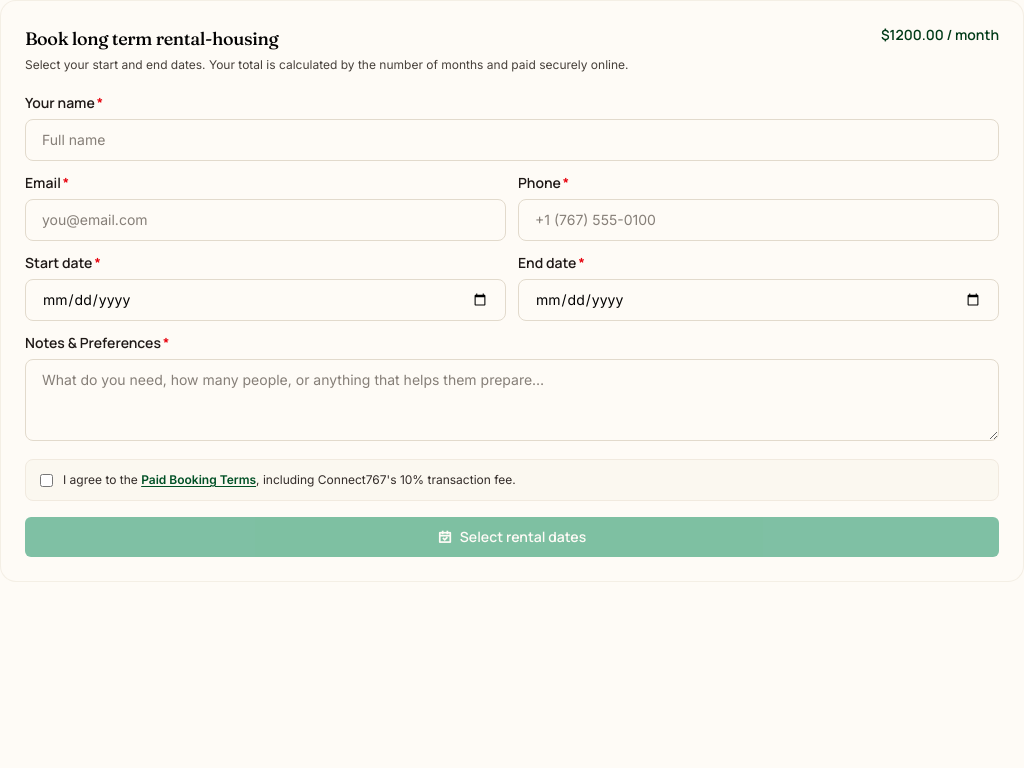
Test: BookingForm › uses a monthly rate for long-term housing
expect the text "$1200.00 / month" is shown: met, box [881, 25, 999, 45]
Type "2030-01-01" into the date field labelled "Start date*".
click(266, 300); type("2030-01-01")  # box [25, 279, 506, 321]
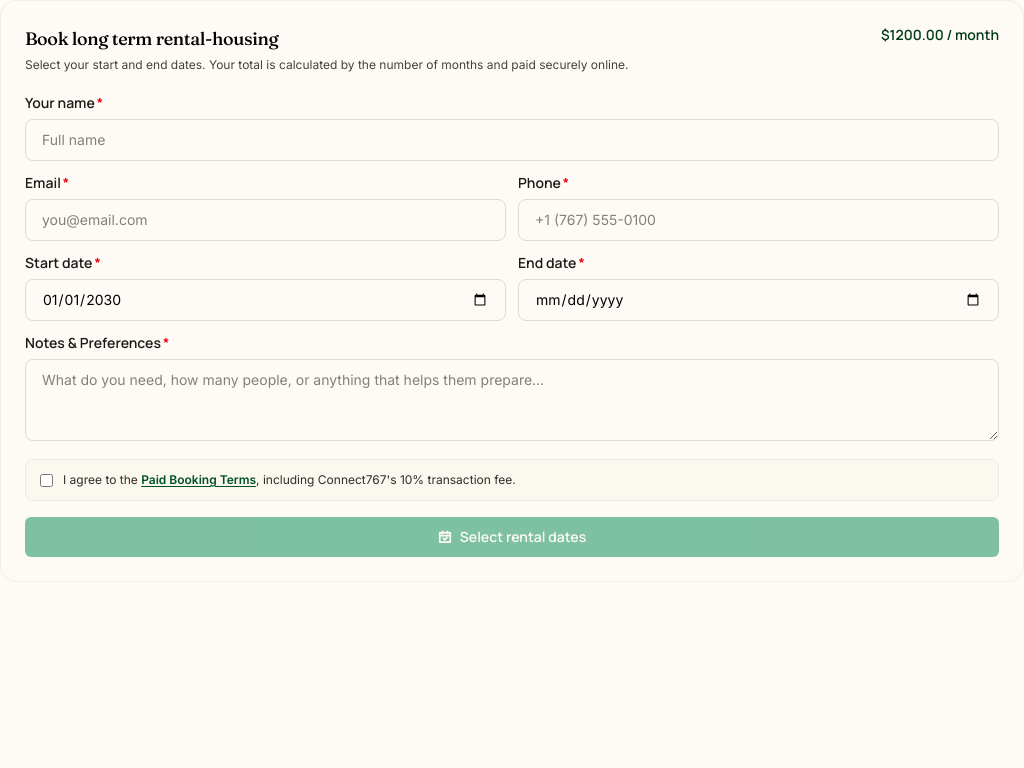
Type "2030-03-02" into the date field labelled "End date*".
click(758, 300); type("2030-03-02")  # box [518, 279, 999, 321]
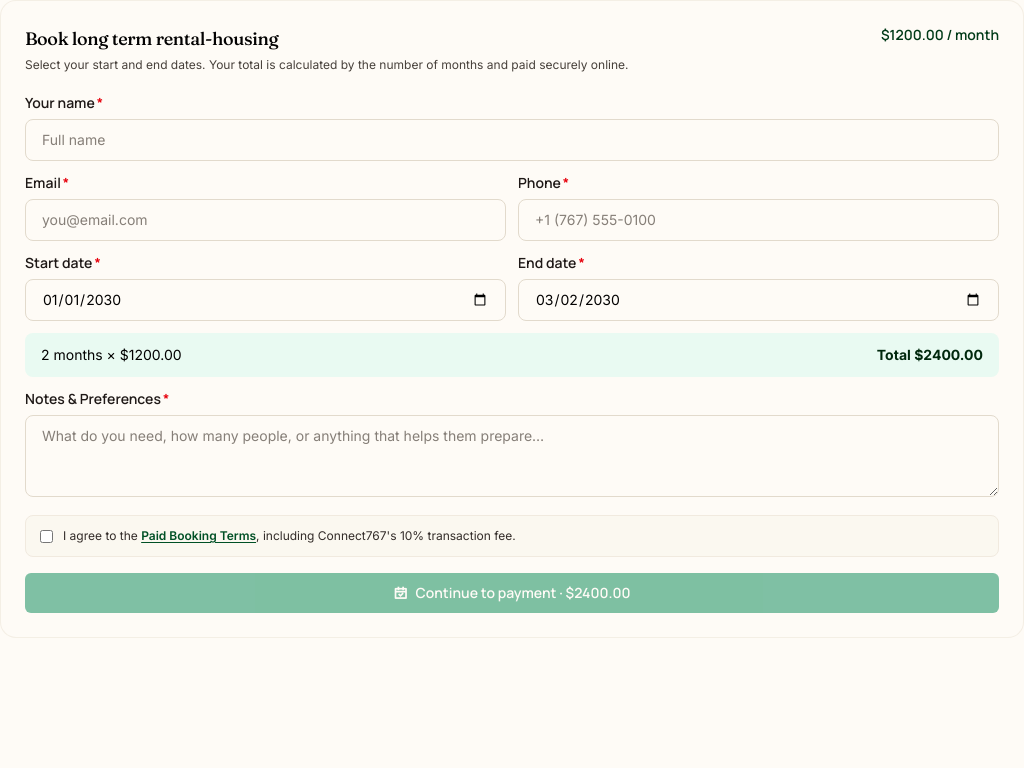
expect the text "2 months × $1200.00" is shown: met, box [41, 345, 182, 365]
expect the text "Total $2400.00" is shown: met, box [877, 345, 983, 365]
